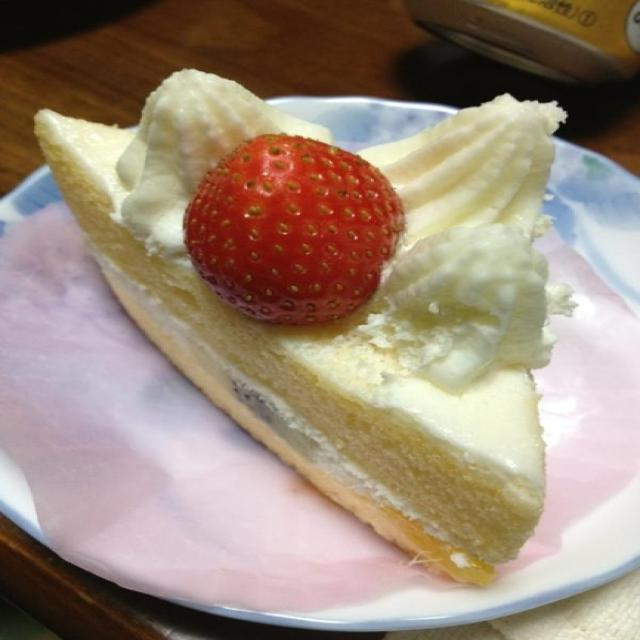蛋糕甜品: (13, 27, 609, 616)
